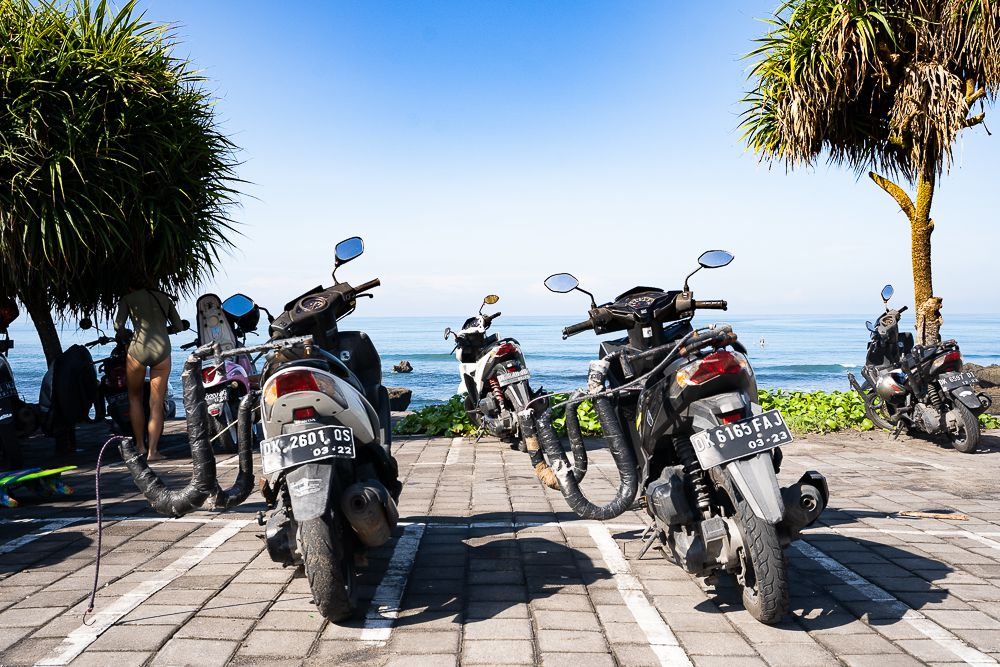bike: (540, 249, 830, 628), (221, 234, 398, 617), (847, 284, 991, 453), (443, 294, 533, 449)
person: (114, 278, 177, 461)
tree: (749, 1, 950, 343), (1, 2, 199, 283)
